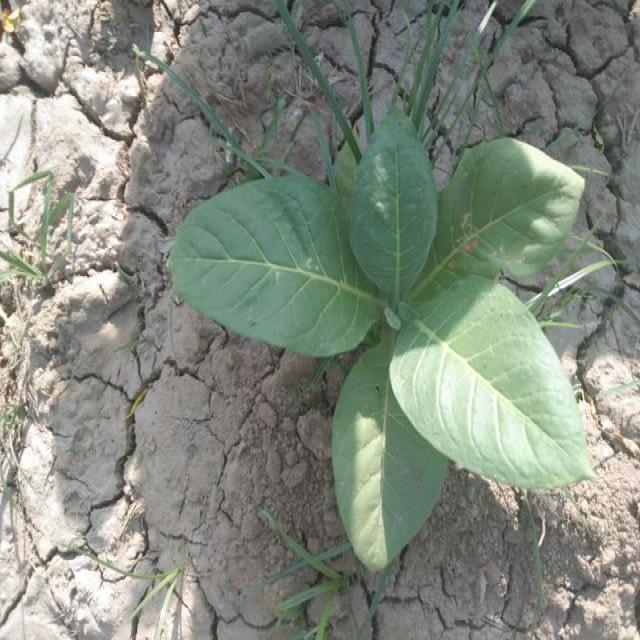crop: (160, 114, 594, 564)
